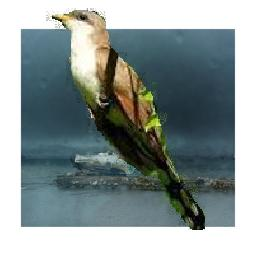Cuckoo: (47, 8, 206, 230)
